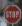Stop sign: (0, 0, 21, 25)
